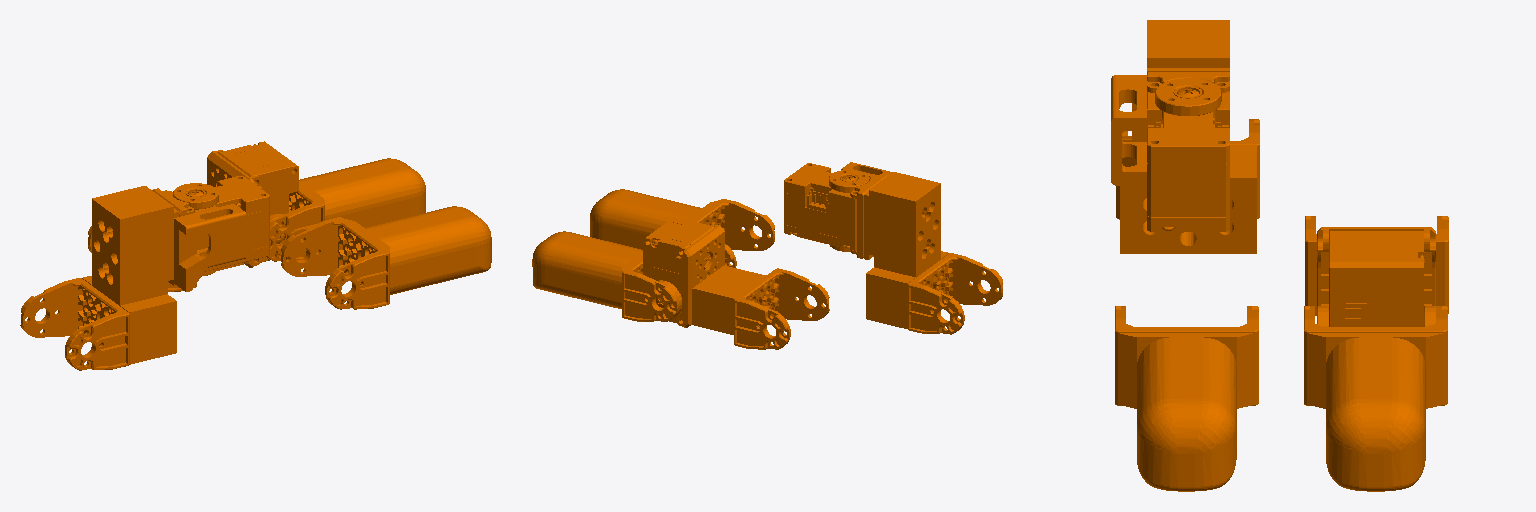
URDF robot description (onshape):
<robot name="onshape">
  <link name="palm_lower">
    <inertial>
      <origin xyz="0.0 0.0 0.0" rpy="0.0 -0.0 0.0"/>
      <mass value="0.237"/>
      <inertia ixx="0.000354094" ixy="-1.193e-06" ixz="-2.445e-06" iyy="0.000260915" iyz="-2.905e-06" izz="0.000529257"/>
    </inertial>
    <visual>
      <geometry>
        <mesh filename="../assets/leap/leap_hand/palm_lower.stl"/>
      </geometry>
      <origin xyz="-0.020095249652862544 0.025757756134899473 -0.034722403578460216" rpy="0.0 -0.0 0.0"/>
      <material name="palm_lower_material">
        <color rgba="0.6039215686274509 0.14901960784313725 0.14901960784313725 1.0"/>
      </material>
    </visual>
    <collision>
      <geometry>
        <mesh filename="../assets/leap/leap_hand/palm_lower.stl"/>
      </geometry>
      <origin xyz="-0.020095249652862544 0.025757756134899473 -0.034722403578460216" rpy="0.0 -0.0 0.0"/>
    </collision>
  </link>
  <link name="mcp_joint">
    <inertial>
      <origin xyz="0.0 0.0 0.0" rpy="0.0 -0.0 0.0"/>
      <mass value="0.044"/>
      <inertia ixx="1.1499e-05" ixy="3.049e-06" ixz="1.21e-07" iyy="7.796e-06" iyz="1.12e-07" izz="1.4759e-05"/>
    </inertial>
    <visual>
      <geometry>
        <mesh filename="../assets/leap/leap_hand/mcp_joint.stl"/>
      </geometry>
      <origin xyz="0.008406902261174496 0.0077662438597169954 0.014657354985032912" rpy="1.6375789613221e-15 -1.021047330249102e-30 1.7177968783327987e-31"/>
      <material name="mcp_joint_material">
        <color rgba="0.8666666666666667 0.8666666666666667 0.050980392156862744 1.0"/>
      </material>
    </visual>
    <collision>
      <geometry>
        <mesh filename="../assets/leap/leap_hand/mcp_joint.stl"/>
      </geometry>
      <origin xyz="0.008406902261174496 0.0077662438597169954 0.014657354985032912" rpy="1.6375789613221e-15 -1.021047330249102e-30 1.7177968783327987e-31"/>
    </collision>
  </link>
  <link name="pip">
    <inertial>
      <origin xyz="0.0 0.0 0.0" rpy="0.0 -0.0 0.0"/>
      <mass value="0.032"/>
      <inertia ixx="4.798e-06" ixy="1.2e-08" ixz="4e-09" iyy="2.862e-06" iyz="1.1e-08" izz="4.234e-06"/>
    </inertial>
    <visual>
      <geometry>
        <mesh filename="../assets/leap/leap_hand/pip.stl"/>
      </geometry>
      <origin xyz="0.009643363092271328 0.0002999999999999895 0.0007840340104173765" rpy="-1.5707963267948966 -1.5707963267948963 0.0"/>
      <material name="pip_material">
        <color rgba="0.7490196078431373 0.7490196078431373 0.7490196078431373 1.0"/>
      </material>
    </visual>
    <collision>
      <geometry>
        <mesh filename="../assets/leap/leap_hand/pip.stl"/>
      </geometry>
      <origin xyz="0.009643363092271328 0.0002999999999999895 0.0007840340104173765" rpy="-1.5707963267948966 -1.5707963267948963 0.0"/>
    </collision>
  </link>
  <link name="dip">
    <inertial>
      <origin xyz="0.0 0.0 0.0" rpy="0.0 -0.0 0.0"/>
      <mass value="0.037"/>
      <inertia ixx="5.542e-06" ixy="-6.07e-07" ixz="-1.7e-08" iyy="5.727e-06" iyz="-2.3e-08" izz="6.682e-06"/>
    </inertial>
    <visual>
      <geometry>
        <mesh filename="../assets/leap/leap_hand/dip.stl"/>
      </geometry>
      <origin xyz="0.021133352895225003 -0.00843211914670488 0.00978508816209524" rpy="-3.141592653589793 4.507511124216441e-32 4.439548105392361e-32"/>
      <material name="dip_material">
        <color rgba="0.8666666666666667 0.8666666666666667 0.050980392156862744 1.0"/>
      </material>
    </visual>
    <collision>
      <geometry>
        <mesh filename="../assets/leap/leap_hand/dip.stl"/>
      </geometry>
      <origin xyz="0.021133352895225003 -0.00843211914670488 0.00978508816209524" rpy="-3.141592653589793 4.507511124216441e-32 4.439548105392361e-32"/>
    </collision>
  </link>
  <link name="fingertip">
    <inertial>
      <origin xyz="0.0 0.0 0.0" rpy="0.0 -0.0 0.0"/>
      <mass value="0.016"/>
      <inertia ixx="3.368e-06" ixy="1.15e-07" ixz="0.0" iyy="1.556e-06" iyz="0.0" izz="2.863e-06"/>
    </inertial>
    <visual>
      <geometry>
        <mesh filename="../assets/leap/leap_hand/fingertip.stl"/>
      </geometry>
      <origin xyz="0.013286424108533503 -0.006114238386541987 0.014499999999999498" rpy="3.141592653589793 1.1993117970061735e-33 4.439548105392361e-32"/>
      <material name="fingertip_material">
        <color rgba="0.8666666666666667 0.8666666666666667 0.050980392156862744 1.0"/>
      </material>
    </visual>
    <collision>
      <geometry>
        <mesh filename="../assets/leap/leap_hand/fingertip.stl"/>
      </geometry>
      <origin xyz="0.013286424108533503 -0.006114238386541987 0.014499999999999498" rpy="3.141592653589793 1.1993117970061735e-33 4.439548105392361e-32"/>
    </collision>
  </link>
  <link name="pip_4">
    <inertial>
      <origin xyz="0.0 0.0 0.0" rpy="0.0 -0.0 0.0"/>
      <mass value="0.032"/>
      <inertia ixx="4.798e-06" ixy="1.2e-08" ixz="4e-09" iyy="2.862e-06" iyz="1.1e-08" izz="4.234e-06"/>
    </inertial>
    <visual>
      <geometry>
        <mesh filename="../assets/leap/leap_hand/pip.stl"/>
      </geometry>
      <origin xyz="-0.005356636907728671 0.0002999999999999999 0.0007840340104173782" rpy="-1.5707963267948966 -1.5707963267948963 0.0"/>
      <material name="pip_material">
        <color rgba="0.7490196078431373 0.7490196078431373 0.7490196078431373 1.0"/>
      </material>
    </visual>
    <collision>
      <geometry>
        <mesh filename="../assets/leap/leap_hand/pip.stl"/>
      </geometry>
      <origin xyz="-0.005356636907728671 0.0002999999999999999 0.0007840340104173782" rpy="-1.5707963267948966 -1.5707963267948963 0.0"/>
    </collision>
  </link>
  <link name="thumb_pip">
    <inertial>
      <origin xyz="0.0 0.0 0.0" rpy="0.0 -0.0 0.0"/>
      <mass value="0.003"/>
      <inertia ixx="5.93e-07" ixy="0.0" ixz="0.0" iyy="5.49e-07" iyz="0.0" izz="2.24e-07"/>
    </inertial>
    <visual>
      <geometry>
        <mesh filename="../assets/leap/leap_hand/thumb_pip.stl"/>
      </geometry>
      <origin xyz="0.011961920770611187 -5.30825383648903e-16 -0.0158526489566642" rpy="1.5707963267948966 1.6050198443300153e-46 -3.9204996250525193e-59"/>
      <material name="thumb_pip_material">
        <color rgba="0.8666666666666667 0.8666666666666667 0.050980392156862744 1.0"/>
      </material>
    </visual>
    <collision>
      <geometry>
        <mesh filename="../assets/leap/leap_hand/thumb_pip.stl"/>
      </geometry>
      <origin xyz="0.011961920770611187 -5.30825383648903e-16 -0.0158526489566642" rpy="1.5707963267948966 1.6050198443300153e-46 -3.9204996250525193e-59"/>
    </collision>
  </link>
  <link name="thumb_dip">
    <inertial>
      <origin xyz="0.0 0.0 0.0" rpy="0.0 -0.0 0.0"/>
      <mass value="0.038"/>
      <inertia ixx="8.474e-06" ixy="2.41e-07" ixz="2.6e-08" iyy="3.841e-06" iyz="2.5e-08" izz="7.679e-06"/>
    </inertial>
    <visual>
      <geometry>
        <mesh filename="../assets/leap/leap_hand/thumb_dip.stl"/>
      </geometry>
      <origin xyz="0.043968715707239175 0.0579529529737092 -0.008628676449369476" rpy="1.94289029309401e-16 3.27515792264422e-15 1.112375852965736e-46"/>
      <material name="thumb_dip_material">
        <color rgba="0.8666666666666667 0.8666666666666667 0.050980392156862744 1.0"/>
      </material>
    </visual>
    <collision>
      <geometry>
        <mesh filename="../assets/leap/leap_hand/thumb_dip.stl"/>
      </geometry>
      <origin xyz="0.043968715707239175 0.0579529529737092 -0.008628676449369476" rpy="1.94289029309401e-16 3.27515792264422e-15 1.112375852965736e-46"/>
    </collision>
  </link>
  <link name="thumb_fingertip">
    <inertial>
      <origin xyz="0.0 0.0 0.0" rpy="0.0 -0.0 0.0"/>
      <mass value="0.049"/>
      <inertia ixx="2.0372e-05" ixy="-4.89e-07" ixz="-3e-08" iyy="4.336e-06" iyz="-9.7e-08" izz="1.9845e-05"/>
    </inertial>
    <visual>
      <geometry>
        <mesh filename="../assets/leap/leap_hand/thumb_fingertip.stl"/>
      </geometry>
      <origin xyz="0.06255953846266739 0.07845968291139699 0.048992911807332215" rpy="4.379057701015637e-47 -3.33066907387547e-16 1.2042408677791935e-46"/>
      <material name="thumb_fingertip_material">
        <color rgba="0.6039215686274509 0.14901960784313725 0.14901960784313725 1.0"/>
      </material>
    </visual>
    <collision>
      <geometry>
        <mesh filename="../assets/leap/leap_hand/thumb_fingertip.stl"/>
      </geometry>
      <origin xyz="0.06255953846266739 0.07845968291139699 0.048992911807332215" rpy="4.379057701015637e-47 -3.33066907387547e-16 1.2042408677791935e-46"/>
    </collision>
  </link>
  <link name="mcp_joint_2">
    <inertial>
      <origin xyz="0.0 0.0 0.0" rpy="0.0 -0.0 0.0"/>
      <mass value="0.044"/>
      <inertia ixx="1.1499e-05" ixy="3.049e-06" ixz="1.21e-07" iyy="7.796e-06" iyz="1.12e-07" izz="1.4759e-05"/>
    </inertial>
    <visual>
      <geometry>
        <mesh filename="../assets/leap/leap_hand/mcp_joint.stl"/>
      </geometry>
      <origin xyz="0.008406902261174496 0.0077662438597169954 0.014657354985032914" rpy="1.6375789613221e-15 -1.0076465469034e-30 2.1209300131419907e-61"/>
      <material name="mcp_joint_material">
        <color rgba="0.8666666666666667 0.8666666666666667 0.050980392156862744 1.0"/>
      </material>
    </visual>
    <collision>
      <geometry>
        <mesh filename="../assets/leap/leap_hand/mcp_joint.stl"/>
      </geometry>
      <origin xyz="0.008406902261174496 0.0077662438597169954 0.014657354985032914" rpy="1.6375789613221e-15 -1.0076465469034e-30 2.1209300131419907e-61"/>
    </collision>
  </link>
  <link name="pip_2">
    <inertial>
      <origin xyz="0.0 0.0 0.0" rpy="0.0 -0.0 0.0"/>
      <mass value="0.032"/>
      <inertia ixx="4.798e-06" ixy="1.2e-08" ixz="4e-09" iyy="2.862e-06" iyz="1.1e-08" izz="4.234e-06"/>
    </inertial>
    <visual>
      <geometry>
        <mesh filename="../assets/leap/leap_hand/pip.stl"/>
      </geometry>
      <origin xyz="0.009643363092271328 0.0002999999999999947 0.0007840340104173765" rpy="-1.5707963267948966 -1.5707963267948963 0.0"/>
      <material name="pip_material">
        <color rgba="0.7490196078431373 0.7490196078431373 0.7490196078431373 1.0"/>
      </material>
    </visual>
    <collision>
      <geometry>
        <mesh filename="../assets/leap/leap_hand/pip.stl"/>
      </geometry>
      <origin xyz="0.009643363092271328 0.0002999999999999947 0.0007840340104173765" rpy="-1.5707963267948966 -1.5707963267948963 0.0"/>
    </collision>
  </link>
  <link name="dip_2_long">
    <inertial>
      <origin xyz="0.0 0.0 0.0" rpy="0.0 -0.0 0.0"/>
      <mass value="0.037"/>
      <inertia ixx="5.542e-06" ixy="-6.07e-07" ixz="-1.7e-08" iyy="5.727e-06" iyz="-2.3e-08" izz="6.682e-06"/>
    </inertial>
    <visual>
      <geometry>
        <mesh filename="custom_models/dip_long.stl"/>
      </geometry>
      <origin xyz="0.021133352895225003 -0.008432119146704865 0.009785088162095237" rpy="-3.141592653589793 2.1146933785271956e-32 1.4408183216511869e-31"/>
      <material name="dip_material">
        <color rgba="0.878 0.467 0.0 1.0"/>
      </material>
    </visual>
    <collision>
      <geometry>
        <mesh filename="custom_models/dip_long.stl"/>
      </geometry>
      <origin xyz="0.021133352895225003 -0.008432119146704865 0.009785088162095237" rpy="-3.141592653589793 2.1146933785271956e-32 1.4408183216511869e-31"/>
    </collision>
  </link>
  <link name="fingertip_2_long">
    <inertial>
      <origin xyz="0.0 0.0 0.0" rpy="0.0 -0.0 0.0"/>
      <mass value="0.016"/>
      <inertia ixx="3.368e-06" ixy="1.15e-07" ixz="0.0" iyy="1.556e-06" iyz="0.0" izz="2.863e-06"/>
    </inertial>
    <visual>
      <geometry>
        <mesh filename="custom_models/fingertip_long.stl"/>
      </geometry>
      <origin xyz="0.013286424108533496 -0.006114238386542001 0.014499999999999496" rpy="3.141592653589793 -4.317959788283594e-33 1.4408183216511869e-31"/>
      <material name="fingertip_material">
        <color rgba="0.878 0.467 0.0 1.0"/>
      </material>
    </visual>
    <collision>
      <geometry>
        <mesh filename="custom_models/fingertip_long.stl"/>
      </geometry>
      <origin xyz="0.013286424108533496 -0.006114238386542001 0.014499999999999496" rpy="3.141592653589793 -4.317959788283594e-33 1.4408183216511869e-31"/>
    </collision>
  </link>
  <link name="mcp_joint_3_long">
    <inertial>
      <origin xyz="0.0 0.0 0.0" rpy="0.0 -0.0 0.0"/>
      <mass value="0.044"/>
      <inertia ixx="1.1499e-05" ixy="3.049e-06" ixz="1.21e-07" iyy="7.796e-06" iyz="1.12e-07" izz="1.4759e-05"/>
    </inertial>
    <visual>
      <geometry>
        <mesh filename="custom_models/mcp_joint_long.stl"/>
      </geometry>
      <origin xyz="0.0084069022611745 0.007766243859716996 0.014657354985032914" rpy="1.6375789613221e-15 -1.0059504988632627e-30 5.729641584552035e-32"/>
      <material name="mcp_joint_material">
        <color rgba="0.878 0.467 0.0 1.0"/>
      </material>
    </visual>
    <collision>
      <geometry>
        <mesh filename="custom_models/mcp_joint_long.stl"/>
      </geometry>
      <origin xyz="0.0084069022611745 0.007766243859716996 0.014657354985032914" rpy="1.6375789613221e-15 -1.0059504988632627e-30 5.729641584552035e-32"/>
    </collision>
  </link>
  <link name="pip_3">
    <inertial>
      <origin xyz="0.0 0.0 0.0" rpy="0.0 -0.0 0.0"/>
      <mass value="0.032"/>
      <inertia ixx="4.798e-06" ixy="1.2e-08" ixz="4e-09" iyy="2.862e-06" iyz="1.1e-08" izz="4.234e-06"/>
    </inertial>
    <visual>
      <geometry>
        <mesh filename="../assets/leap/leap_hand/pip.stl"/>
      </geometry>
      <origin xyz="0.009643363092271331 0.00029999999999998084 0.0007840340104173765" rpy="-1.5707963267948966 -1.5707963267948963 0.0"/>
      <material name="pip_material">
        <color rgba="0.7490196078431373 0.7490196078431373 0.7490196078431373 1.0"/>
      </material>
    </visual>
    <collision>
      <geometry>
        <mesh filename="../assets/leap/leap_hand/pip.stl"/>
      </geometry>
      <origin xyz="0.009643363092271331 0.00029999999999998084 0.0007840340104173765" rpy="-1.5707963267948966 -1.5707963267948963 0.0"/>
    </collision>
  </link>
  <link name="dip_3">
    <inertial>
      <origin xyz="0.0 0.0 0.0" rpy="0.0 -0.0 0.0"/>
      <mass value="0.037"/>
      <inertia ixx="5.542e-06" ixy="-6.07e-07" ixz="-1.7e-08" iyy="5.727e-06" iyz="-2.3e-08" izz="6.682e-06"/>
    </inertial>
    <visual>
      <geometry>
        <mesh filename="../assets/leap/leap_hand/dip.stl"/>
      </geometry>
      <origin xyz="0.021133352895225006 -0.008432119146704865 0.009785088162095237" rpy="-3.141592653589793 -1.4095651113919093e-33 1.5565411607615035e-32"/>
      <material name="dip_material">
        <color rgba="0.8666666666666667 0.8666666666666667 0.050980392156862744 1.0"/>
      </material>
    </visual>
    <collision>
      <geometry>
        <mesh filename="../assets/leap/leap_hand/dip.stl"/>
      </geometry>
      <origin xyz="0.021133352895225006 -0.008432119146704865 0.009785088162095237" rpy="-3.141592653589793 -1.4095651113919093e-33 1.5565411607615035e-32"/>
    </collision>
  </link>
  <link name="fingertip_3_long">
    <inertial>
      <origin xyz="0.0 0.0 0.0" rpy="0.0 -0.0 0.0"/>
      <mass value="0.016"/>
      <inertia ixx="3.368e-06" ixy="1.15e-07" ixz="0.0" iyy="1.556e-06" iyz="0.0" izz="2.863e-06"/>
    </inertial>
    <visual>
      <geometry>
        <mesh filename="custom_models/fingertip_long.stl"/>
      </geometry>
      <origin xyz="0.013286424108533501 -0.006114238386541987 0.0144999999999995" rpy="3.141592653589793 8.61707169505754e-33 1.5565411607615035e-32"/>
      <material name="fingertip_material">
        <color rgba="0.878 0.467 0.0 1.0"/>
      </material>
    </visual>
    <collision>
      <geometry>
        <mesh filename="custom_models/fingertip_long.stl"/>
      </geometry>
      <origin xyz="0.013286424108533501 -0.006114238386541987 0.0144999999999995" rpy="3.141592653589793 8.61707169505754e-33 1.5565411607615035e-32"/>
    </collision>
  </link>
  <joint name="1" type="revolute">
    <parent link="palm_lower"/>
    <child link="mcp_joint"/>
    <origin xyz="-0.007095249652862546 0.023057756134899472 -0.01872240357846022" rpy="1.570796326794895 1.5707963267948946 0.0"/>
    <axis xyz="0.0 0.0 -1.0"/>
    <limit effort="0.95" velocity="8.48" lower="-0.314" upper="2.23"/>
  </joint>
  <joint name="0" type="revolute">
    <parent link="mcp_joint"/>
    <child link="pip"/>
    <origin xyz="-0.012200000000000008 0.038099999999999995 0.0145" rpy="-1.5707963267948966 -1.0065212660796337e-15 1.5707963267948943"/>
    <axis xyz="0.0 0.0 -1.0"/>
    <limit effort="0.95" velocity="8.48" lower="-1.047" upper="1.047"/>
  </joint>
  <joint name="2" type="revolute">
    <parent link="pip"/>
    <child link="dip"/>
    <origin xyz="0.014999999999999968 0.014299999999999905 -0.012999999999999824" rpy="1.570796326794896 -1.5707963267948963 0.0"/>
    <axis xyz="0.0 0.0 -1.0"/>
    <limit effort="0.95" velocity="8.48" lower="-0.506" upper="1.885"/>
  </joint>
  <joint name="3" type="revolute">
    <parent link="dip"/>
    <child link="fingertip"/>
    <origin xyz="-4.088058249557269e-09 -0.03610000421036737 0.0002000000000000786" rpy="4.5935029425113685e-17 -2.8730071914463795e-16 4.439548105392361e-32"/>
    <axis xyz="0.0 0.0 -1.0"/>
    <limit effort="0.95" velocity="8.48" lower="-0.366" upper="2.042"/>
  </joint>
  <joint name="12" type="revolute">
    <parent link="palm_lower"/>
    <child link="pip_4"/>
    <origin xyz="-0.06939524965286253 -0.0012422438651005258 -0.021622403578460216" rpy="-8.238176646493942e-17 1.5707963267948957 0.0"/>
    <axis xyz="0.0 0.0 -1.0"/>
    <limit effort="0.95" velocity="8.48" lower="-0.349" upper="2.094"/>
  </joint>
  <joint name="13" type="revolute">
    <parent link="pip_4"/>
    <child link="thumb_pip"/>
    <origin xyz="-2.7755575615628914e-17 0.014300000000000005 -0.013000000000000012" rpy="1.570796326794896 -1.5707963267948963 0.0"/>
    <axis xyz="0.0 0.0 -1.0"/>
    <limit effort="0.95" velocity="8.48" lower="-0.47" upper="2.443"/>
  </joint>
  <joint name="14" type="revolute">
    <parent link="thumb_pip"/>
    <child link="thumb_dip"/>
    <origin xyz="0.0 0.014499999999999966 -0.017000000000000053" rpy="-1.5707963267948966 1.6050198443300131e-46 -1.9721522630516625e-31"/>
    <axis xyz="0.0 0.0 -1.0"/>
    <limit effort="0.95" velocity="8.48" lower="-1.2" upper="1.9"/>
  </joint>
  <joint name="15" type="revolute">
    <parent link="thumb_dip"/>
    <child link="thumb_fingertip"/>
    <origin xyz="-1.249000902703301e-16 0.046599999999999864 0.0001999999999999771" rpy="1.506395849149178e-44 5.423418723393526e-31 3.141592653589793"/>
    <axis xyz="0.0 0.0 -1.0"/>
    <limit effort="0.95" velocity="8.48" lower="-1.34" upper="1.88"/>
  </joint>
  <joint name="5" type="revolute">
    <parent link="palm_lower"/>
    <child link="mcp_joint_2"/>
    <origin xyz="-0.007095249652862546 -0.022392243865100525 -0.01872240357846022" rpy="1.570796326794895 1.5707963267948946 0.0"/>
    <axis xyz="0.0 0.0 -1.0"/>
    <limit effort="0.95" velocity="8.48" lower="-0.314" upper="2.23"/>
  </joint>
  <joint name="4" type="revolute">
    <parent link="mcp_joint_2"/>
    <child link="pip_2"/>
    <origin xyz="-0.012200000000000008 0.038099999999999995 0.0145" rpy="-1.5707963267948966 -1.0065212660796337e-15 1.5707963267948943"/>
    <axis xyz="0.0 0.0 -1.0"/>
    <limit effort="0.95" velocity="8.48" lower="-1.047" upper="1.047"/>
  </joint>
  <joint name="6" type="revolute">
    <parent link="pip_2"/>
    <child link="dip_2_long"/>
    <origin xyz="0.014999999999999968 0.014299999999999905 -0.012999999999999824" rpy="1.570796326794896 -1.5707963267948963 0.0"/>
    <axis xyz="0.0 0.0 -1.0"/>
    <limit effort="0.95" velocity="8.48" lower="-0.506" upper="1.885"/>
  </joint>
  <joint name="7" type="revolute">
    <parent link="dip_2_long"/>
    <child link="fingertip_2_long"/>
    <origin xyz="-4.0880582495572692636e-09 -0.051100004210367367397 0.00020000000000007858714" rpy="4.5935029425113685e-17 -2.8730071914463795e-16 4.439548105392361e-32"/>
    <axis xyz="0.0 0.0 -1.0"/>
    <limit effort="0.95" velocity="8.48" lower="-0.366" upper="2.042"/>
  </joint>
  <joint name="9" type="revolute">
    <parent link="palm_lower"/>
    <child link="mcp_joint_3_long"/>
    <origin xyz="-0.007095249652862546 -0.06784224386510052 -0.01872240357846022" rpy="1.570796326794895 1.5707963267948946 0.0"/>
    <axis xyz="0.0 0.0 -1.0"/>
    <limit effort="0.95" velocity="8.48" lower="-0.314" upper="2.23"/>
  </joint>
  <joint name="8" type="revolute">
    <parent link="mcp_joint_3_long"/>
    <child link="pip_3"/>
    <origin xyz="-0.012200000000000007713 0.053099999999999994982 0.014500000000000000736" rpy="-1.5707963267948966 -1.0065212660796337e-15 1.5707963267948943"/>
    <axis xyz="0.0 0.0 -1.0"/>
    <limit effort="0.95" velocity="8.48" lower="-1.047" upper="1.047"/>
  </joint>
  <joint name="10" type="revolute">
    <parent link="pip_3"/>
    <child link="dip_3"/>
    <origin xyz="0.014999999999999968 0.014299999999999905 -0.012999999999999824" rpy="1.570796326794896 -1.5707963267948963 0.0"/>
    <axis xyz="0.0 0.0 -1.0"/>
    <limit effort="0.95" velocity="8.48" lower="-0.506" upper="1.885"/>
  </joint>
  <joint name="11" type="revolute">
    <parent link="dip_3"/>
    <child link="fingertip_3_long"/>
    <origin xyz="-4.088058249557269e-09 -0.03610000421036737 0.0002000000000000786" rpy="4.5935029425113685e-17 -2.8730071914463795e-16 4.439548105392361e-32"/>
    <axis xyz="0.0 0.0 -1.0"/>
    <limit effort="0.95" velocity="8.48" lower="-0.366" upper="2.042"/>
  </joint>
</robot>

--- Render facts (derived) ---
3 views of the same robot in one strip: view 1: azimuth 30°, elevation 25°; view 2: azimuth 150°, elevation 25°; view 3: azimuth 270°, elevation 25° (orthographic).
Robot: onshape — 17 links, 16 joints (16 revolute); root link palm_lower; default pose: all joints at 0.
Visible links, largest first — view 1: mcp_joint_3_long, fingertip_3_long, fingertip_2_long, dip_2_long; view 2: mcp_joint_3_long, dip_2_long, fingertip_2_long, fingertip_3_long; view 3: mcp_joint_3_long, fingertip_2_long, fingertip_3_long, dip_2_long.
Boxes of the visible links, bbox=[...] form: mcp_joint_3_long: bbox=[20, 176, 269, 370]; fingertip_3_long: bbox=[281, 206, 491, 309]; fingertip_2_long: bbox=[267, 158, 425, 261]; dip_2_long: bbox=[88, 141, 298, 291]; mcp_joint_3_long: bbox=[784, 162, 1002, 334]; dip_2_long: bbox=[643, 217, 829, 349]; fingertip_2_long: bbox=[532, 231, 678, 321]; fingertip_3_long: bbox=[590, 189, 774, 267]; mcp_joint_3_long: bbox=[1111, 20, 1259, 253]; fingertip_2_long: bbox=[1304, 306, 1447, 491]; fingertip_3_long: bbox=[1115, 306, 1258, 491]; dip_2_long: bbox=[1305, 216, 1448, 326].
Bounding box of the posed robot: 0.1766 × 0.0811 × 0.0549 m (x, y, z).
Meshes: 11 distinct files referenced, 4 mesh visuals loaded (3 binary STL); not drawn: 13 (reference not matched to a file when rendering).